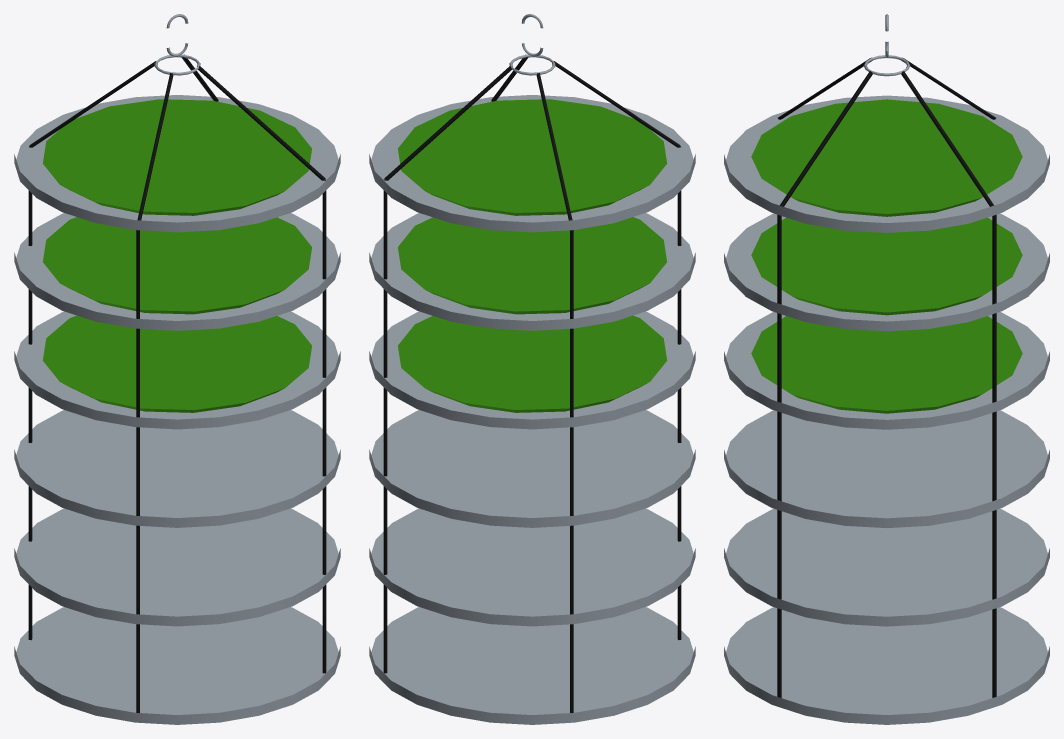
Rendered from drying-rack-mesh-6tier.glb.
3 views of the same model, side by side, from view 1: azimuth 30°, elevation 25°; view 2: azimuth 150°, elevation 25°; view 3: azimuth 270°, elevation 25° (orthographic).
Visible parts, largest first — view 1: rack_tier_5, rack_tier_4, rack_tier_6, rack_buds_1, rack_buds_2, rack_buds_3, rack_tier_1, rack_tier_3, rack_tier_2, rack_straps; view 2: rack_tier_5, rack_tier_4, rack_tier_6, rack_buds_1, rack_buds_2, rack_buds_3, rack_tier_1, rack_tier_3, rack_tier_2, rack_straps; view 3: rack_tier_5, rack_tier_4, rack_tier_6, rack_buds_1, rack_buds_2, rack_buds_3, rack_tier_1, rack_tier_3, rack_tier_2, rack_straps.
Boxes of the visible parts, bbox=[...] form: rack_tier_5: bbox=[14, 508, 340, 626]; rack_tier_4: bbox=[14, 410, 340, 527]; rack_tier_6: bbox=[14, 607, 340, 724]; rack_buds_1: bbox=[43, 99, 311, 215]; rack_buds_2: bbox=[43, 217, 311, 314]; rack_buds_3: bbox=[43, 315, 311, 412]; rack_tier_1: bbox=[14, 95, 340, 232]; rack_tier_3: bbox=[14, 311, 340, 429]; rack_tier_2: bbox=[14, 213, 340, 330]; rack_straps: bbox=[28, 54, 326, 712]; rack_tier_5: bbox=[369, 508, 695, 626]; rack_tier_4: bbox=[369, 410, 695, 527]; rack_tier_6: bbox=[369, 607, 695, 724]; rack_buds_1: bbox=[398, 99, 666, 215]; rack_buds_2: bbox=[398, 217, 666, 314]; rack_buds_3: bbox=[398, 315, 666, 412]; rack_tier_1: bbox=[369, 95, 695, 232]; rack_tier_3: bbox=[369, 311, 695, 429]; rack_tier_2: bbox=[369, 213, 695, 330]; rack_straps: bbox=[383, 54, 681, 712]; rack_tier_5: bbox=[724, 509, 1049, 626]; rack_tier_4: bbox=[724, 410, 1049, 527]; rack_tier_6: bbox=[724, 607, 1049, 724]; rack_buds_1: bbox=[751, 99, 1022, 216]; rack_buds_2: bbox=[751, 217, 1022, 315]; rack_buds_3: bbox=[751, 316, 1022, 413]; rack_tier_1: bbox=[724, 95, 1049, 232]; rack_tier_3: bbox=[724, 312, 1049, 429]; rack_tier_2: bbox=[724, 213, 1049, 331]; rack_straps: bbox=[777, 57, 996, 697].
Bounding box in the file's own units: 0.6 × 1.3 × 0.6.
